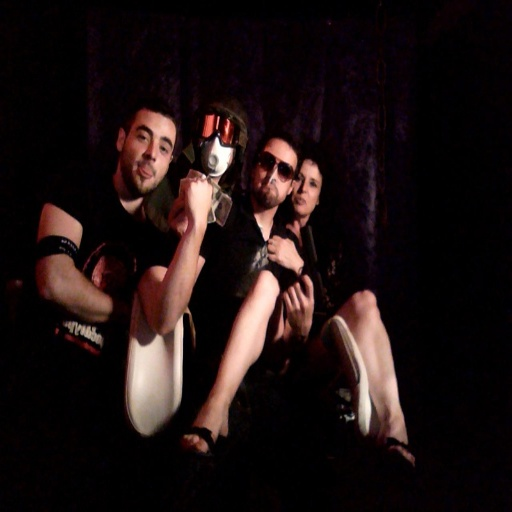hand: (281, 273, 316, 336), (177, 168, 215, 225), (267, 233, 302, 272), (166, 200, 188, 238)
